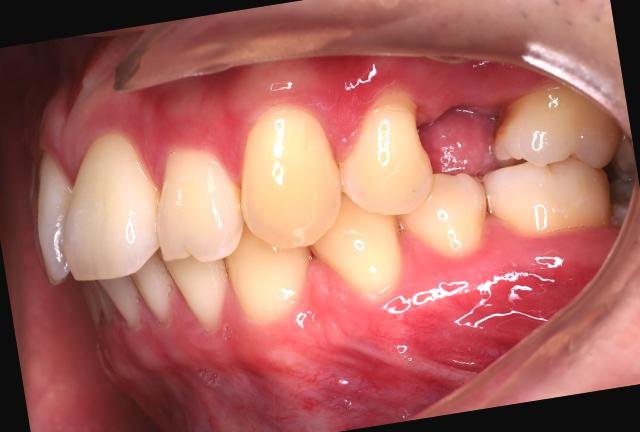canine class I: (201, 90, 414, 336)
molar class II 1/4: (467, 80, 640, 259)
